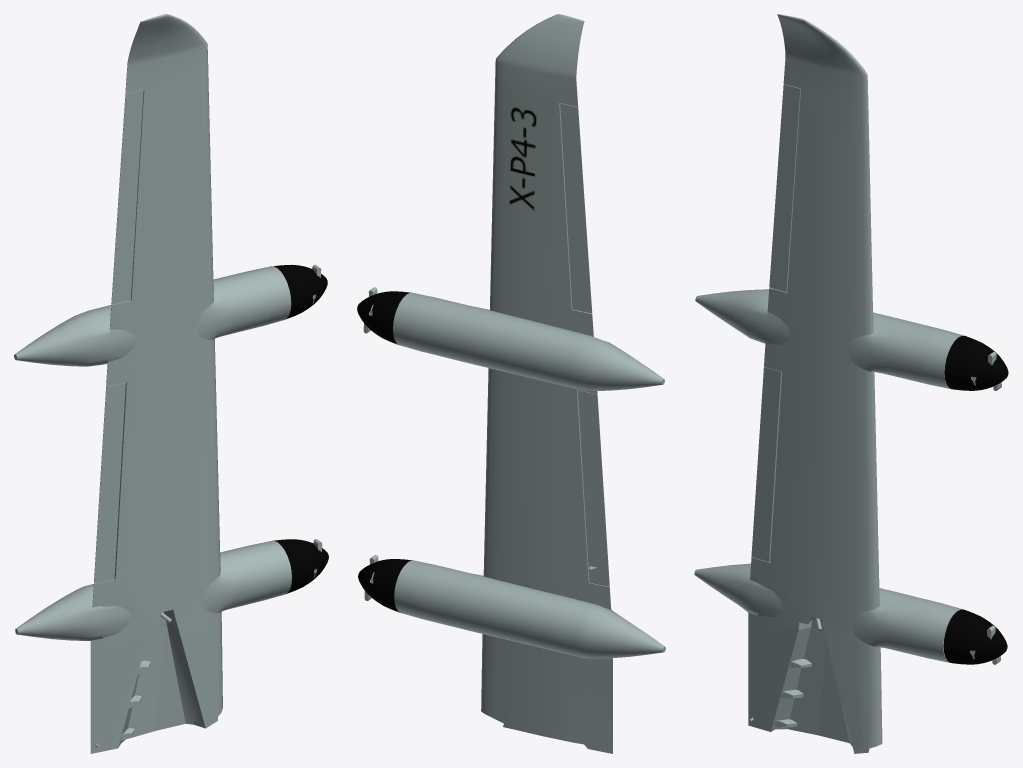
The model's file is p4_left_wing.obj.
3 views of the same model, side by side, from view 1: azimuth 30°, elevation 25°; view 2: azimuth 150°, elevation 25°; view 3: azimuth 330°, elevation 25° (orthographic).
Visible parts, largest first — view 1: mesh_1_Object013_Material_#51_0, mesh_2_Object014_Material_#51_0, mesh_5_Object019_Material_#51_0; view 2: mesh_1_Object013_Material_#51_0, mesh_2_Object014_Material_#51_0, mesh_5_Object019_Material_#51_0; view 3: mesh_1_Object013_Material_#51_0, mesh_2_Object014_Material_#51_0, mesh_5_Object019_Material_#51_0.
Boxes of the visible parts, <box> form: mesh_1_Object013_Material_#51_0: <box>14,14,291,753</box>; mesh_2_Object014_Material_#51_0: <box>272,539,328,593</box>; mesh_5_Object019_Material_#51_0: <box>271,264,327,319</box>; mesh_1_Object013_Material_#51_0: <box>393,14,665,753</box>; mesh_2_Object014_Material_#51_0: <box>358,555,413,612</box>; mesh_5_Object019_Material_#51_0: <box>357,287,411,344</box>; mesh_1_Object013_Material_#51_0: <box>694,14,964,753</box>; mesh_2_Object014_Material_#51_0: <box>943,609,1007,664</box>; mesh_5_Object019_Material_#51_0: <box>944,336,1008,390</box>.
Size of the model in its own units: 0.818 by 1.83 by 0.1671.
Materials: 1 (1 with a texture image).
